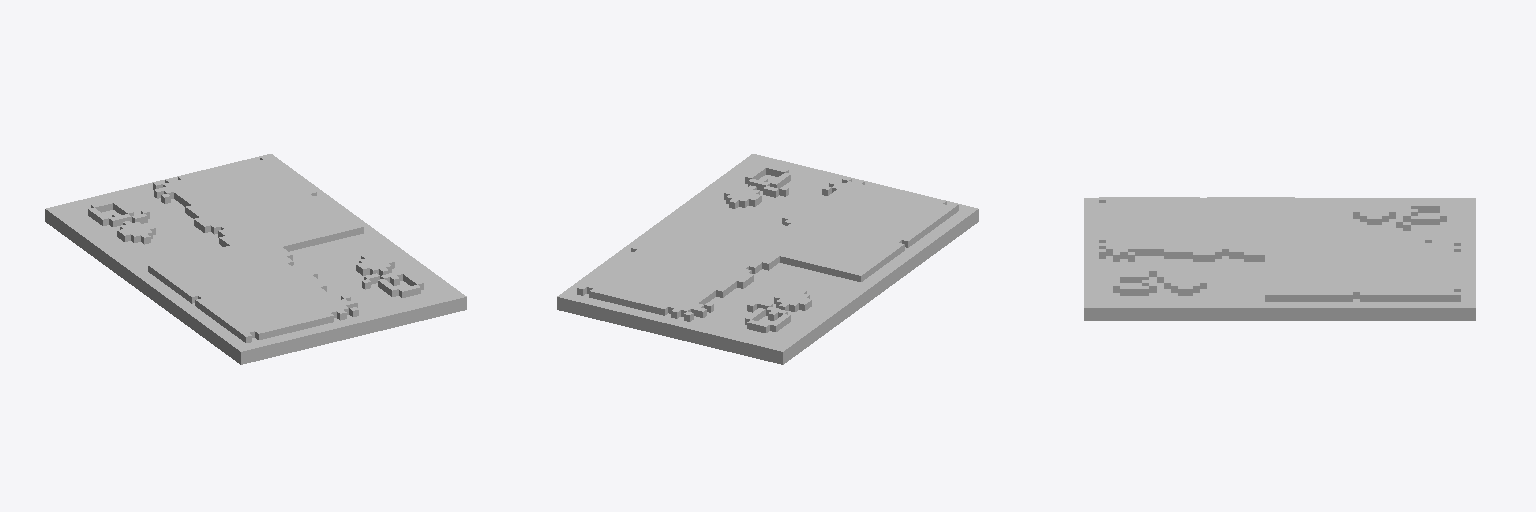
File: DiaQ.obj
The picture shows the model from 3 angles: view 1: azimuth 30°, elevation 25°; view 2: azimuth 150°, elevation 25°; view 3: azimuth 270°, elevation 25°; orthographic projection.
Bounding box in the file's own units: 36 × 3 × 54.